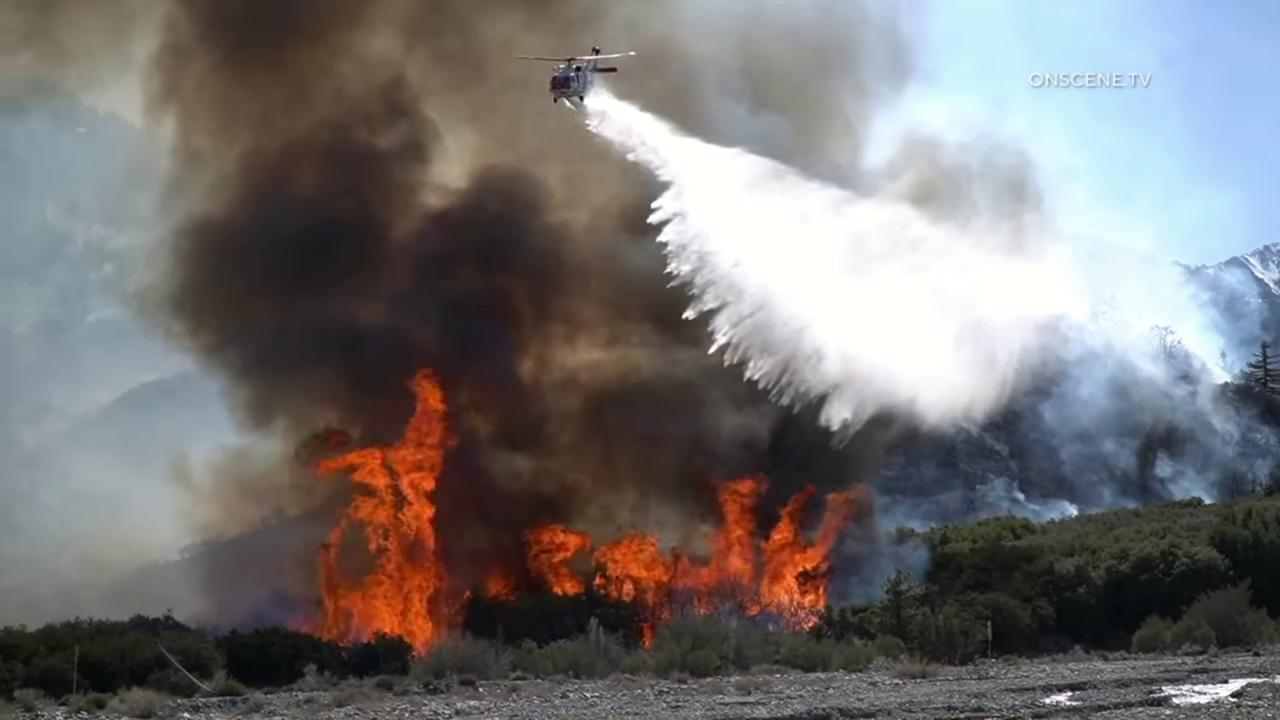fire: (482, 474, 872, 649), (282, 364, 473, 668)
smoke: (0, 0, 1280, 631)
